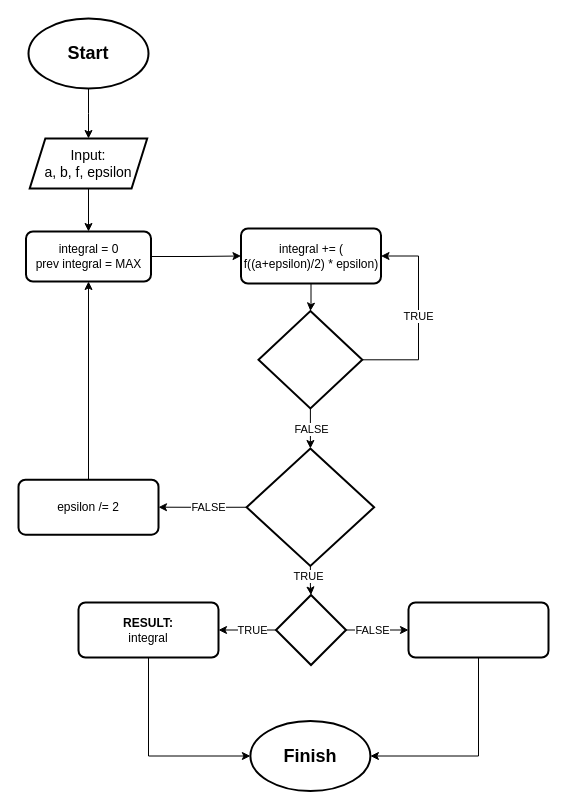
This 566x809 diagram has some shape labels left out. Each missing label, with the centre of its shape:
"(integral - prev integral) <= epsilon" goes at point (310, 506).
"a < b (a += epsilon)" goes at point (310, 359).
"a > b" goes at point (310, 630).
"RESULT: –integral" goes at point (478, 629).
